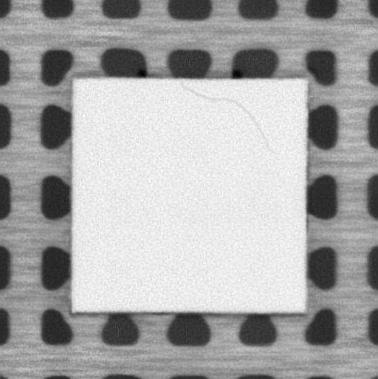DIE_CRACK: (179, 83, 275, 153)
